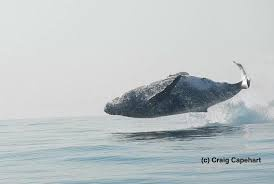humpback: (105, 74, 251, 119)
